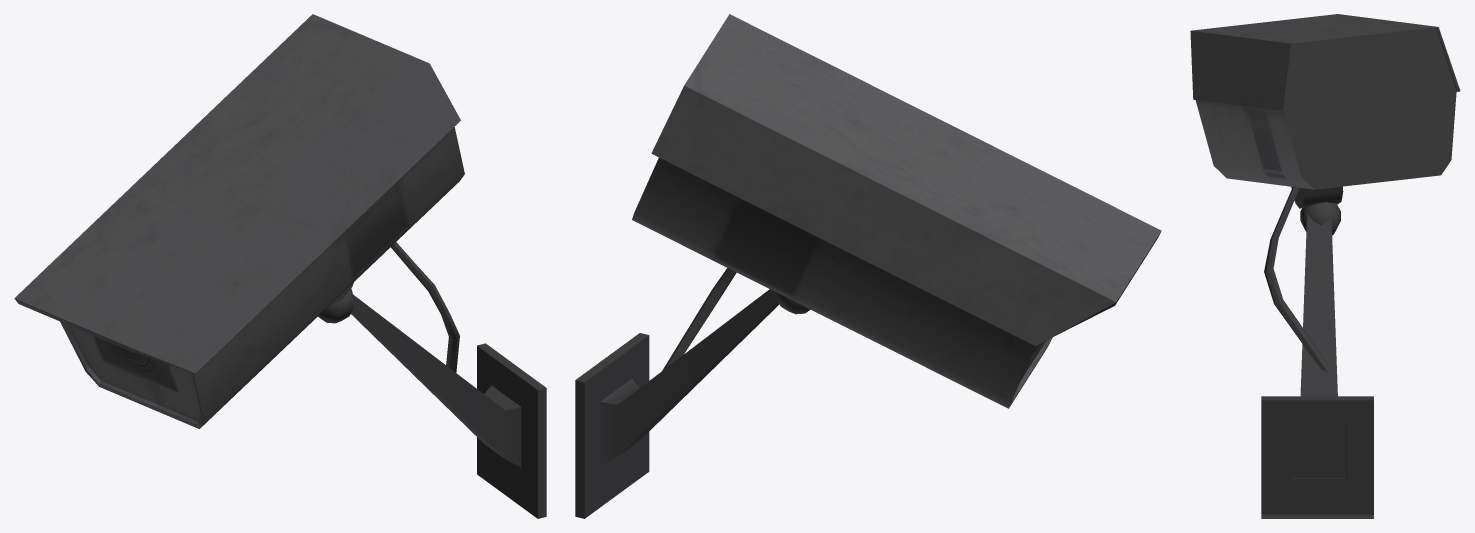
File: 0_Other_006.fbx
3 views of the same model, side by side, from view 1: azimuth 30°, elevation 25°; view 2: azimuth 150°, elevation 25°; view 3: azimuth 270°, elevation 25° (orthographic). The views are drawn at different scales.
Parts seen in each view (by area): view 1: Other_006; view 2: Other_006; view 3: Other_006.
Part boxes in pixels (<box>): Other_006: <box>14,14,546,518</box>; Other_006: <box>575,14,1161,518</box>; Other_006: <box>1190,14,1460,518</box>.
Bounding box in the file's own units: 61.5 × 55.77 × 31.75.
